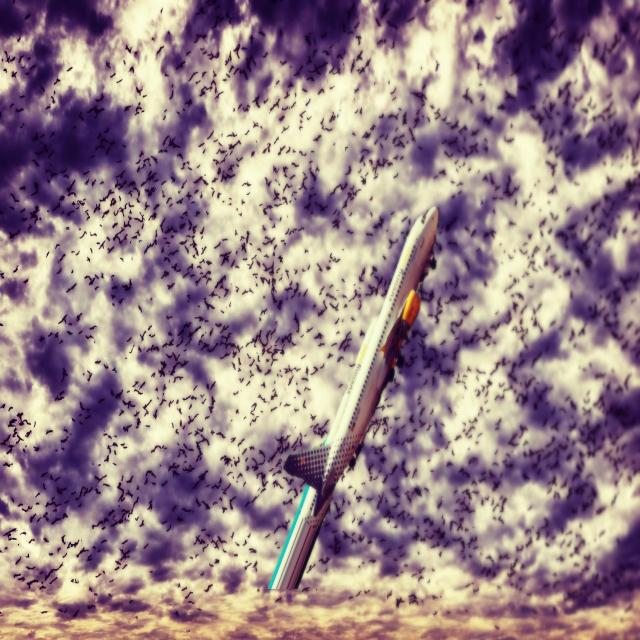airplane: (267, 204, 439, 592)
